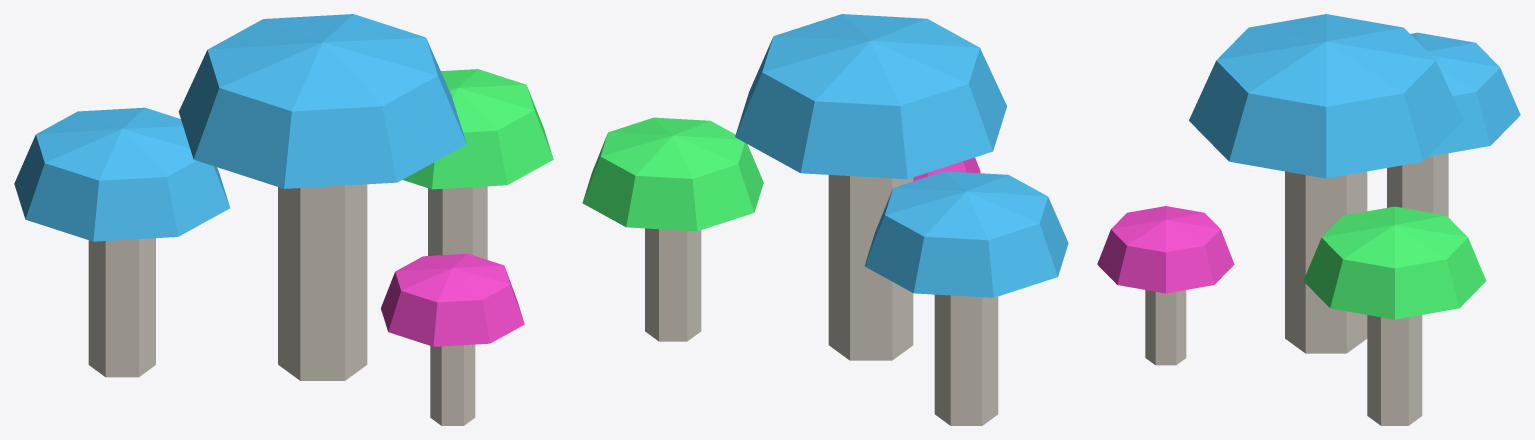
The model's file is GlowMushrooms.fbx.
3 views of the same model, side by side, from view 1: azimuth 30°, elevation 25°; view 2: azimuth 150°, elevation 25°; view 3: azimuth 270°, elevation 25° (orthographic). The views are drawn at different scales.
Parts seen in each view (by area): view 1: GlowMushrooms; view 2: GlowMushrooms; view 3: GlowMushrooms.
Part boxes in pixels (box(x1,y1,x2,y2)): GlowMushrooms: box(14, 14, 553, 425); GlowMushrooms: box(582, 14, 1068, 425); GlowMushrooms: box(1097, 14, 1520, 425).
Size of the model in its own units: 2.35 by 1.43 by 1.85.
1 material, 1 textured.
